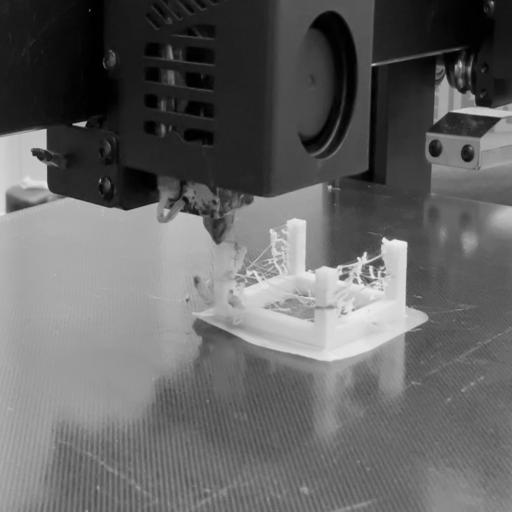spaghetti_and_stringing: (234, 232, 398, 306), (184, 263, 246, 306)
warp: (188, 312, 284, 348), (291, 344, 368, 376)
